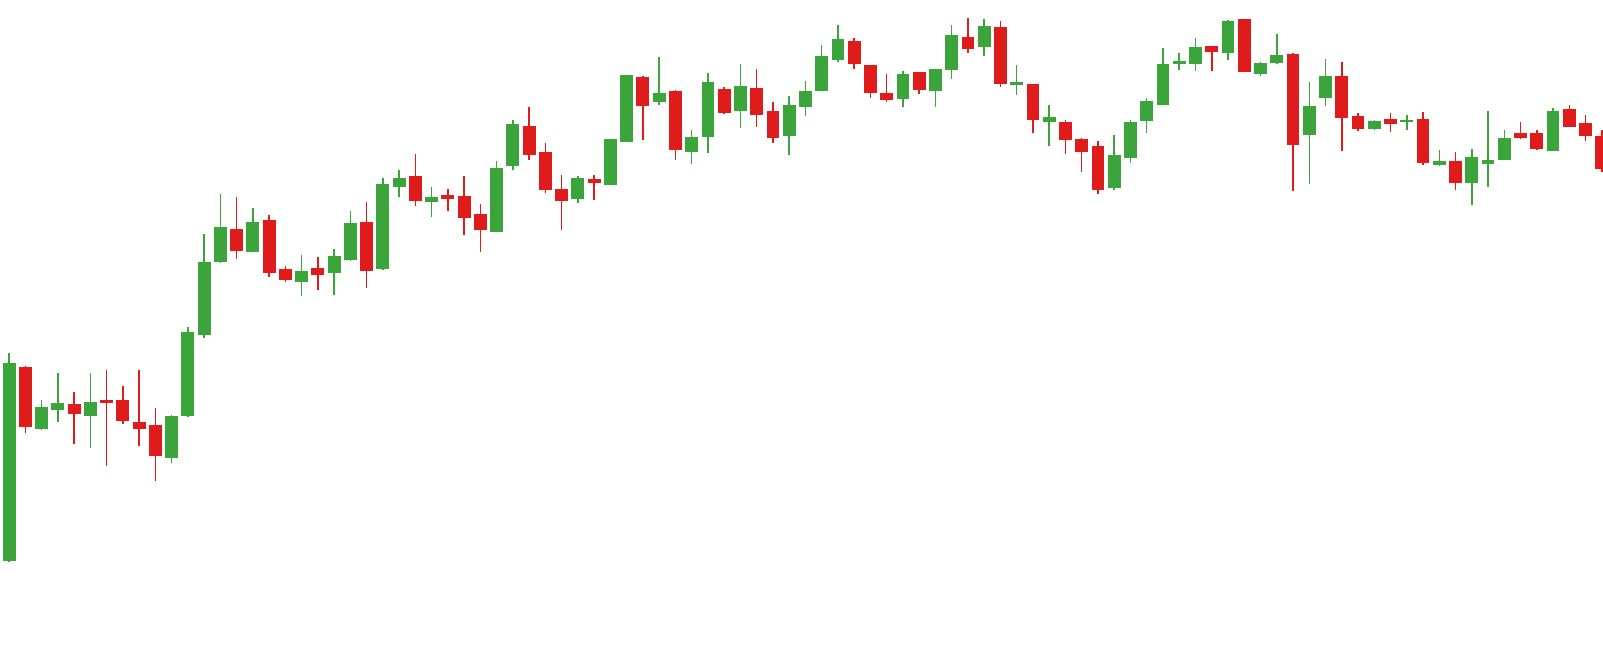sell: (829, 21, 977, 82)
